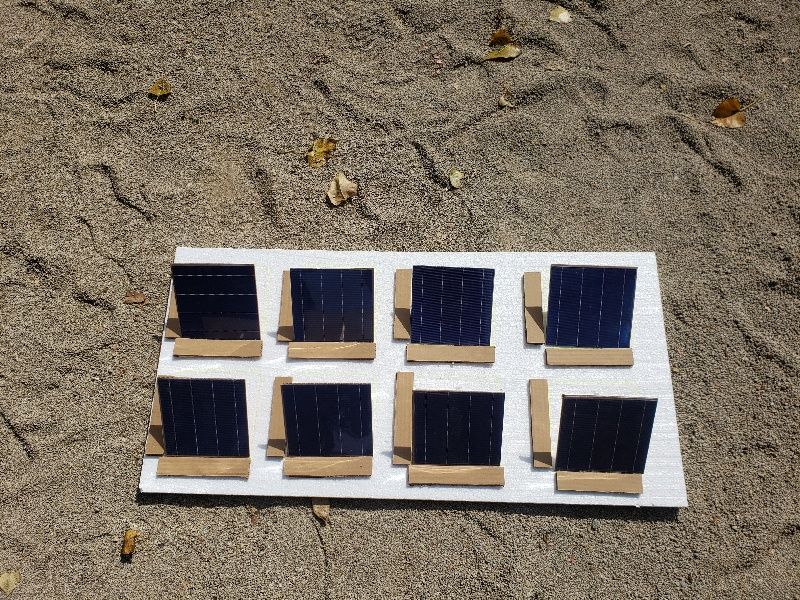clean: (542, 259, 644, 350), (549, 396, 660, 479), (158, 263, 267, 344), (152, 377, 253, 461), (404, 390, 504, 468), (284, 265, 380, 344), (275, 386, 376, 458), (411, 266, 497, 349)
